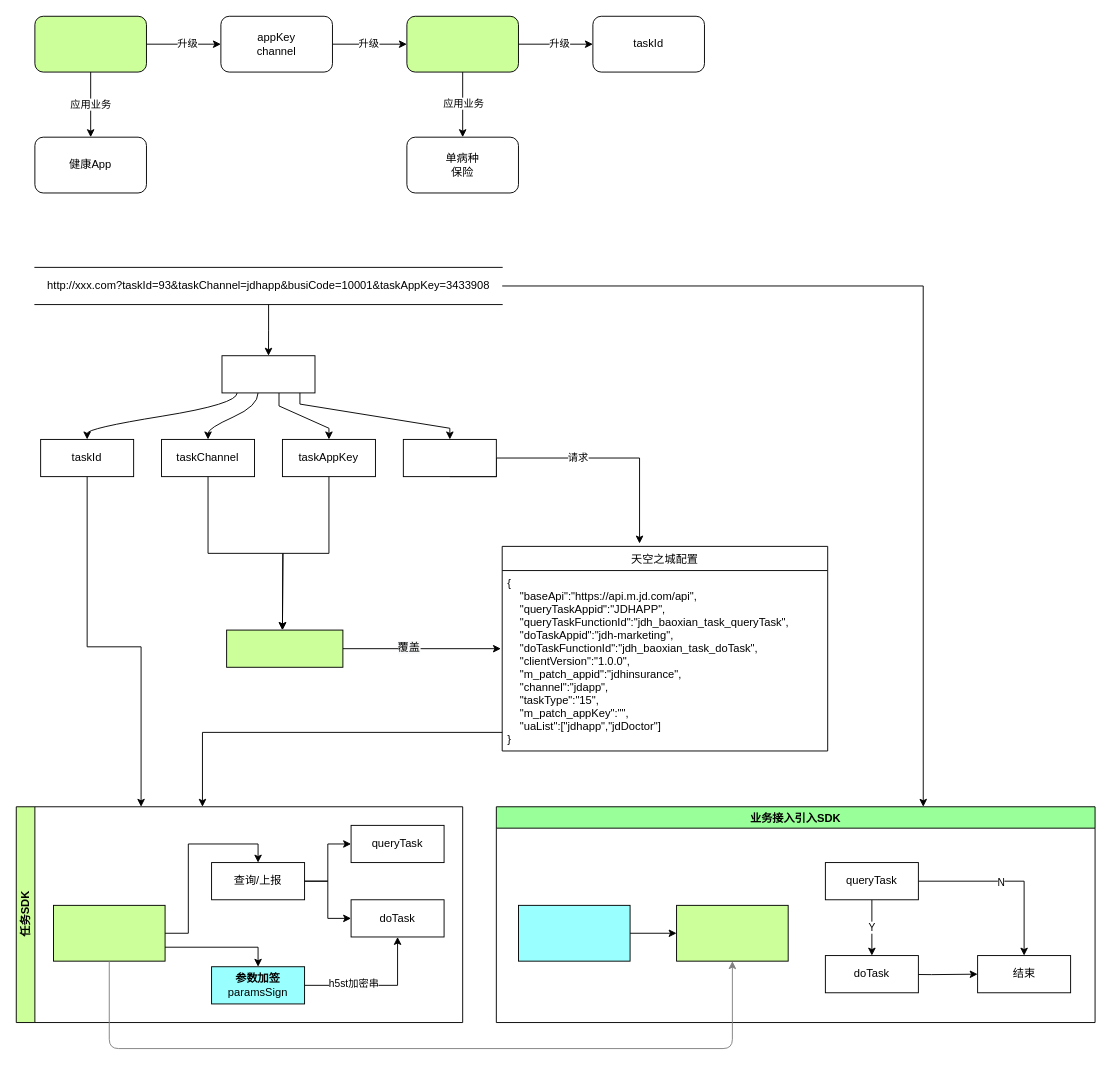
Image size: 1111x1072. Some labels were removed from this diagram. Here are the shapes that lost their labels. From the top down, the centre of each, then its label:
the point at 90,43: appKey clientVersion
the point at 462,43: appKey
the point at 268,374: UrlParams
the point at 449,457: busiCode
the point at 284,648: m_patch_appKey channel
the point at 109,932: 组合参数 functionId publicParams bodyParams
the point at 574,932: 业务传入参数 publicParams bodyParams
the point at 732,932: 重新组合参数 functionId publicParams bodyParams
